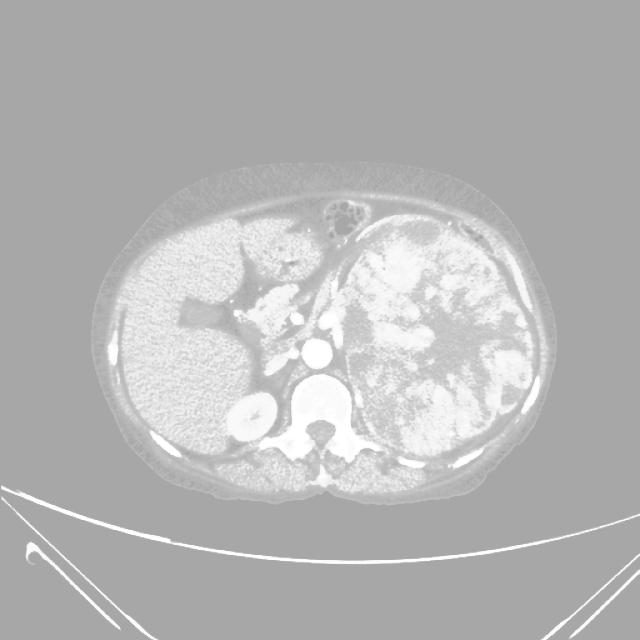TUMOR: (205, 234, 536, 416)
